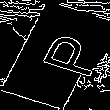P_W: (15, 28, 95, 82)
